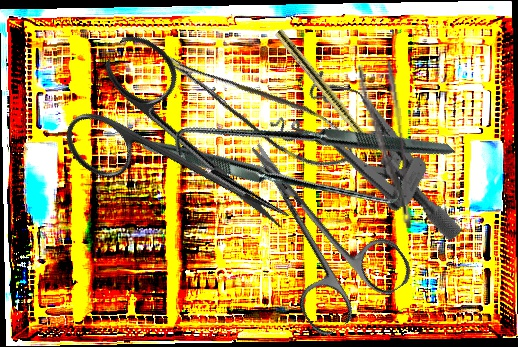Dressing Forceps: (356, 60, 416, 232)
Handpiece: (272, 28, 387, 164)
Hook Surgical: (166, 3, 457, 293), (139, 28, 410, 304)
Iris Scissors: (50, 27, 327, 278), (210, 111, 418, 341)
Micro Scissor: (160, 22, 365, 189)
Speculum: (257, 59, 499, 244)
